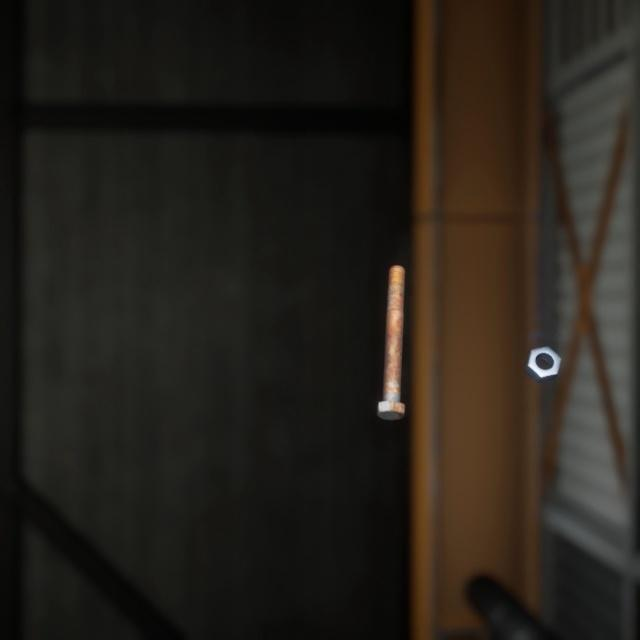bolt: (372, 244, 409, 406)
nut: (520, 323, 565, 368)
